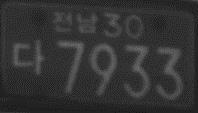0: (125, 13, 144, 40)
3: (122, 44, 151, 99), (156, 46, 184, 101), (102, 11, 121, 37)
7: (55, 39, 85, 92)
9: (89, 42, 118, 97)
다: (11, 39, 44, 74)
전남_O: (50, 10, 98, 34)
